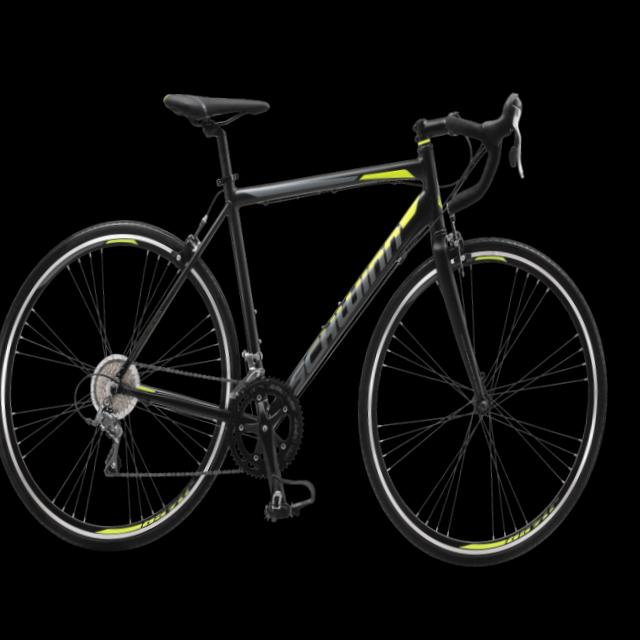road-bike: (0, 70, 633, 571)
